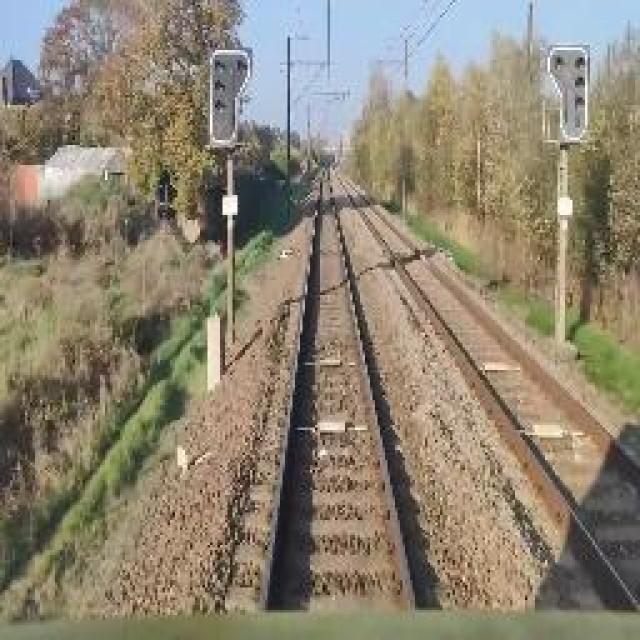rail: (323, 166, 640, 616), (220, 163, 438, 618)
